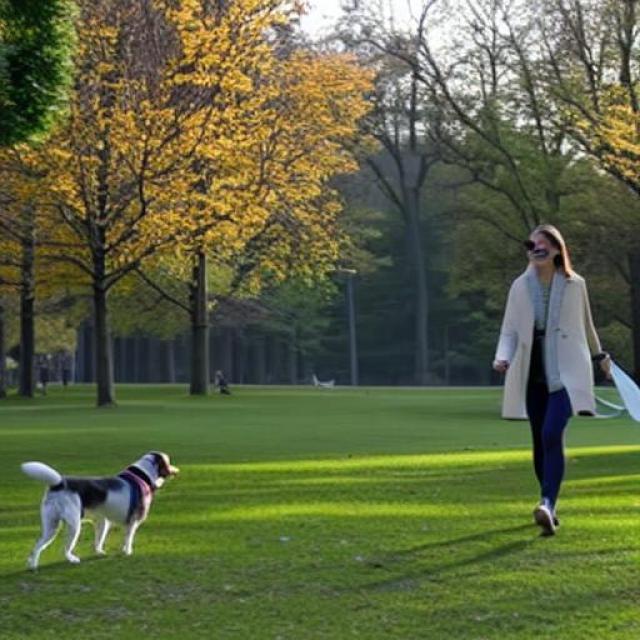Unleashed_Dog: (22, 395, 566, 568)
